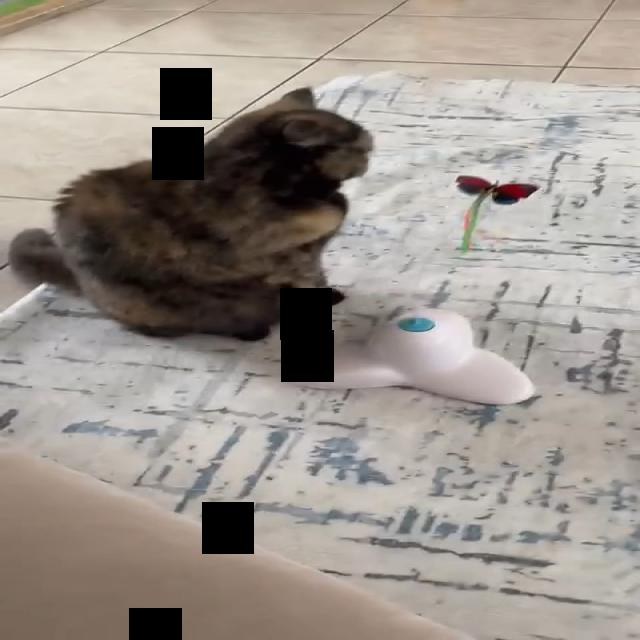authorized: (7, 85, 373, 342)
